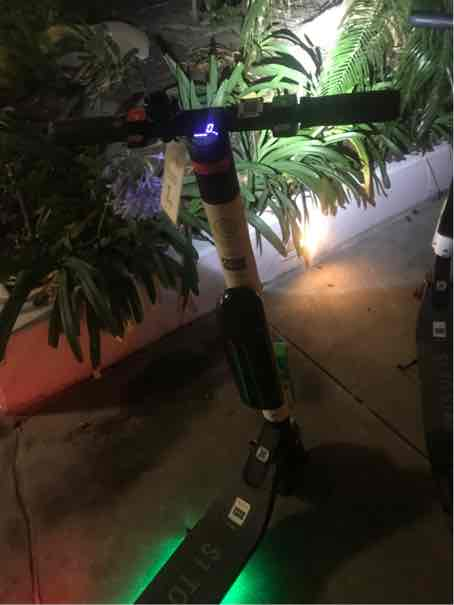scooter: (40, 77, 384, 605)
